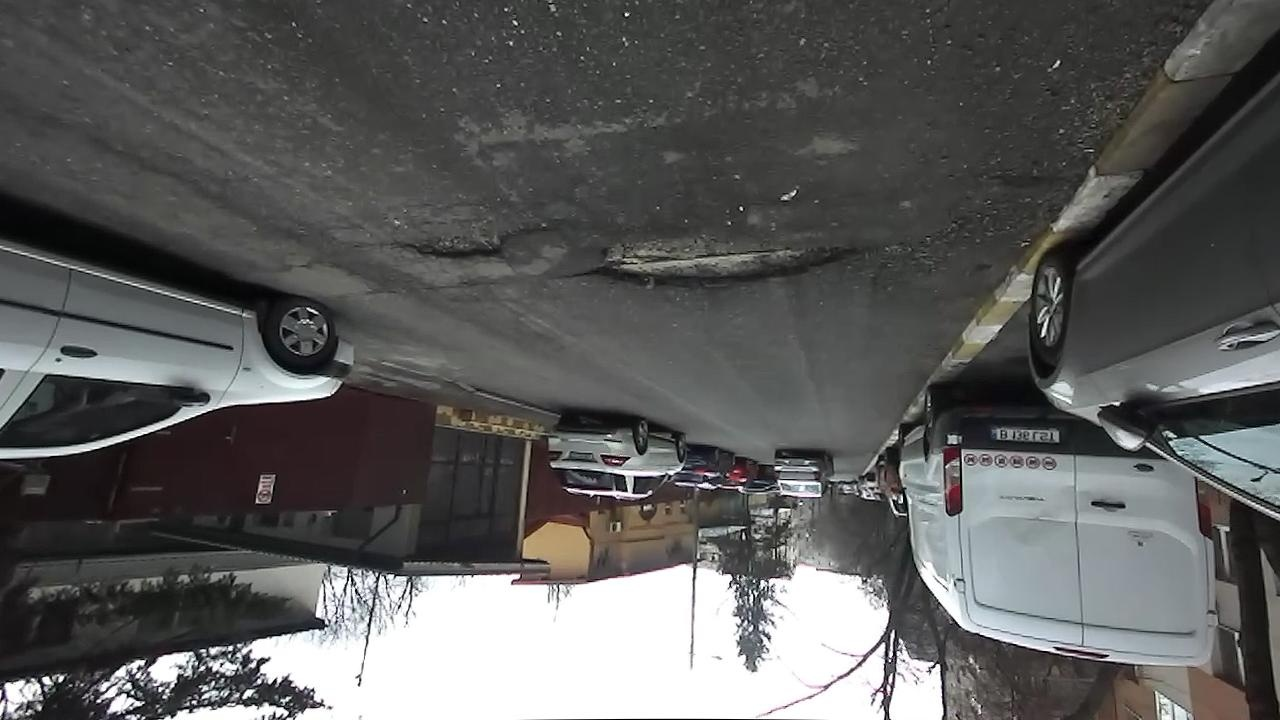pothole: (585, 220, 889, 296), (388, 214, 555, 264)
